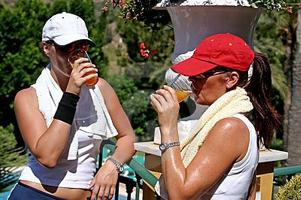person: (6, 12, 138, 200)
